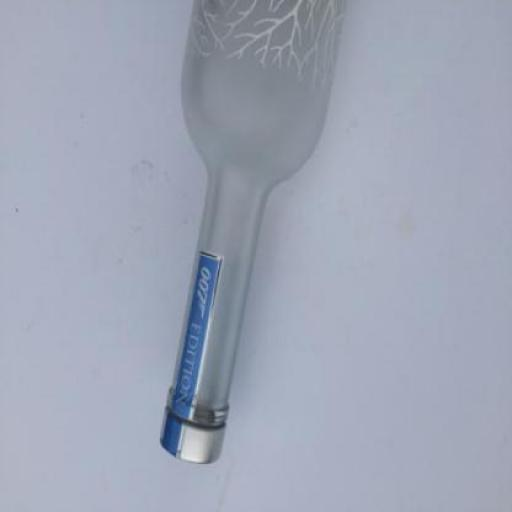glass: (166, 0, 345, 428)
metal: (159, 406, 225, 460)
